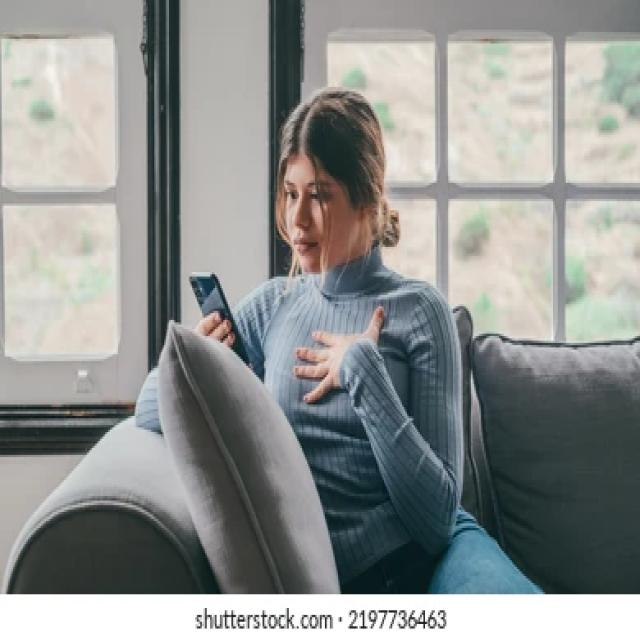smartphone-person: (180, 77, 476, 560)
